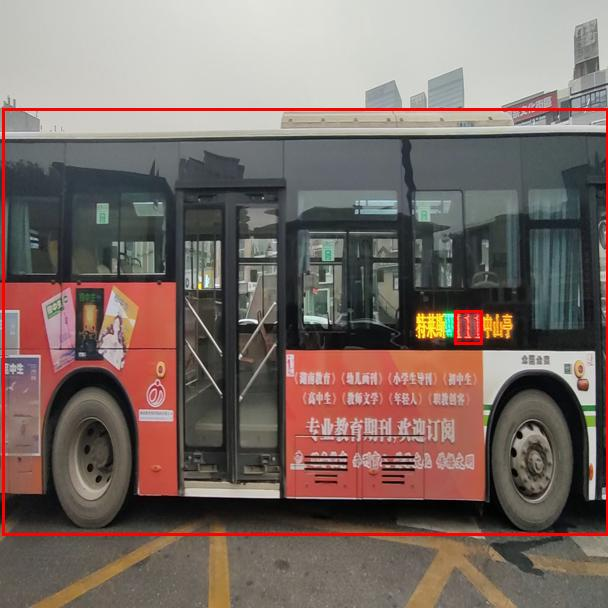bus: (2, 108, 608, 535)
screen: (454, 310, 482, 344)
